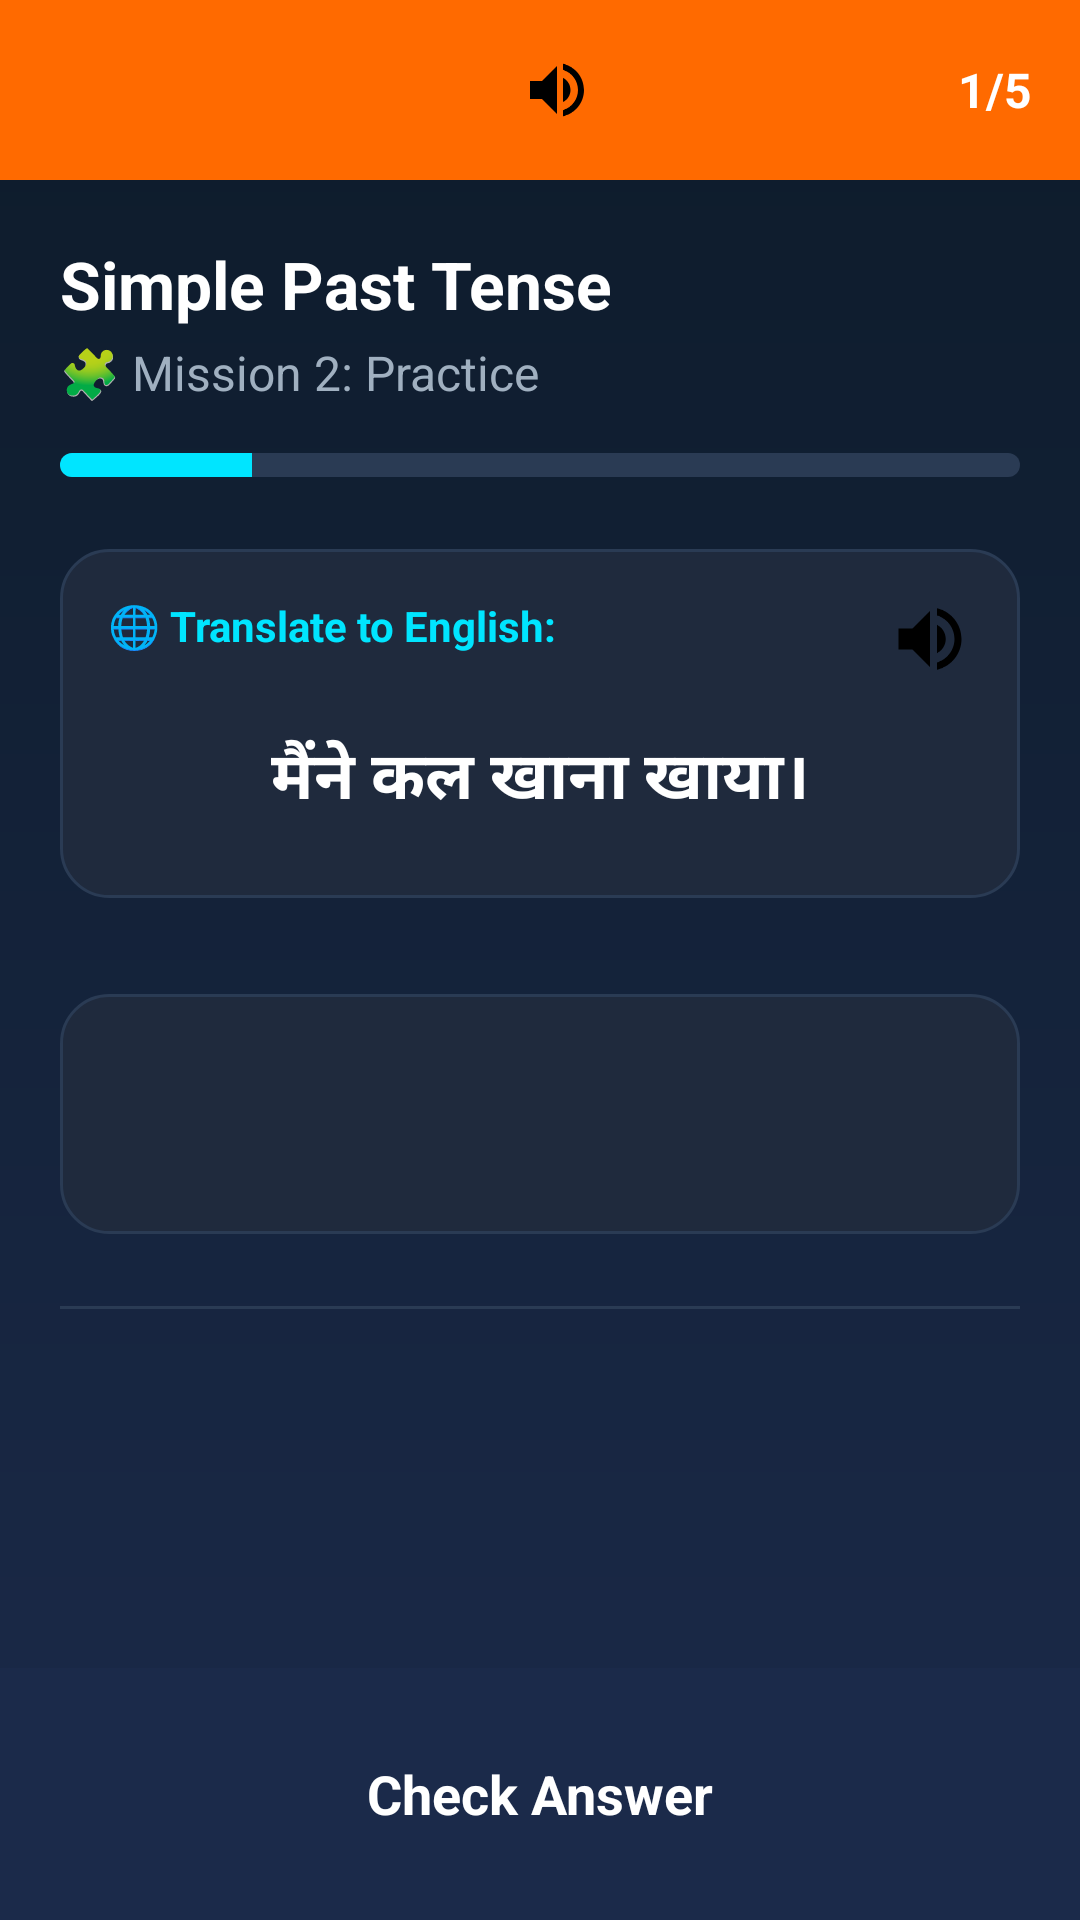

Named icons in this screenshot (1080*1920) and their centers, (x,y):
Play Audio: (930,639)
volume: (557,90)
